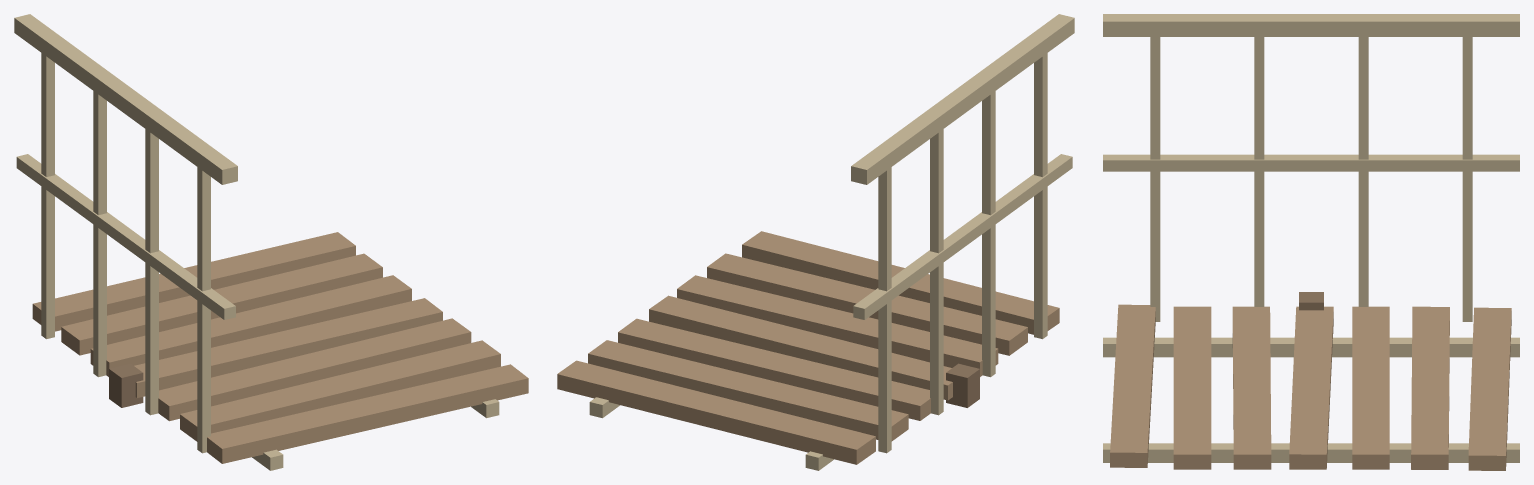
Rendered from bridge-rope-side.glb.
3 renders of one model, left to right at view 1: azimuth 30°, elevation 25°; view 2: azimuth 150°, elevation 25°; view 3: azimuth 270°, elevation 25°, orthographic.
Visible parts, largest first — view 1: bridge-rope-side; view 2: bridge-rope-side; view 3: bridge-rope-side.
Boxes of the visible parts, x1,y1,x2,y2 form: bridge-rope-side: (14,14,528,470); bridge-rope-side: (557,14,1074,470); bridge-rope-side: (1103,14,1519,470).
Bounding box in the file's own units: 0.8875 × 0.83 × 1.
